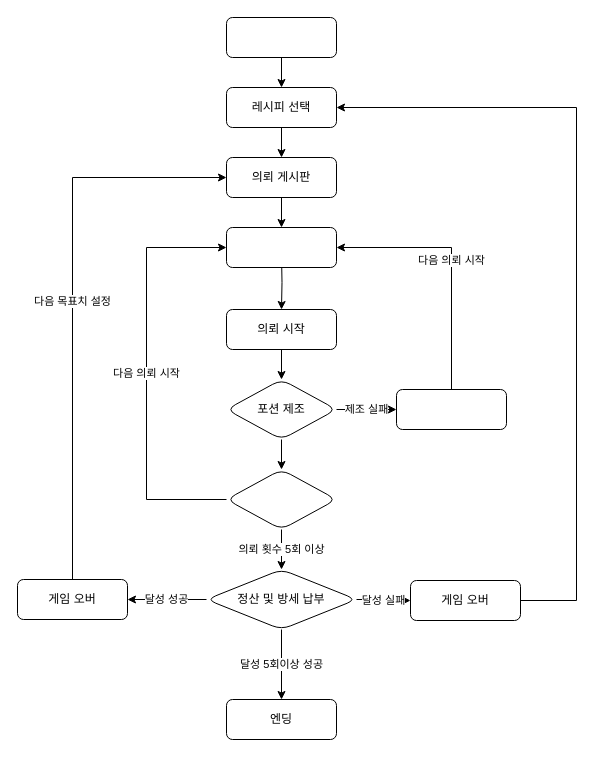
The diagram is 602 pixels wide and 757 high, and some of its shapes have lost their labels. Each missing label, with the centre of its shape:
"게임 시작" belongs at point (281, 37).
"보상 획득" belongs at point (281, 499).
"상점 재료 & 아이템 구매" belongs at point (281, 247).
"위약금 제출" belongs at point (451, 409).
